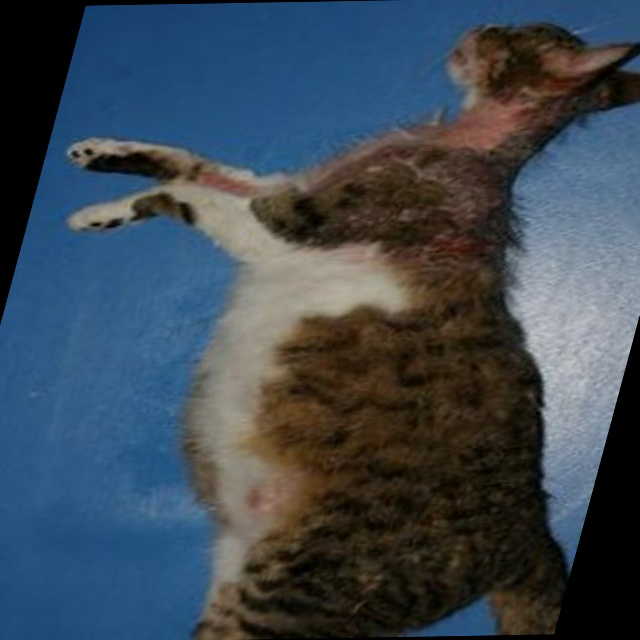hairloss: (153, 249, 409, 563)
